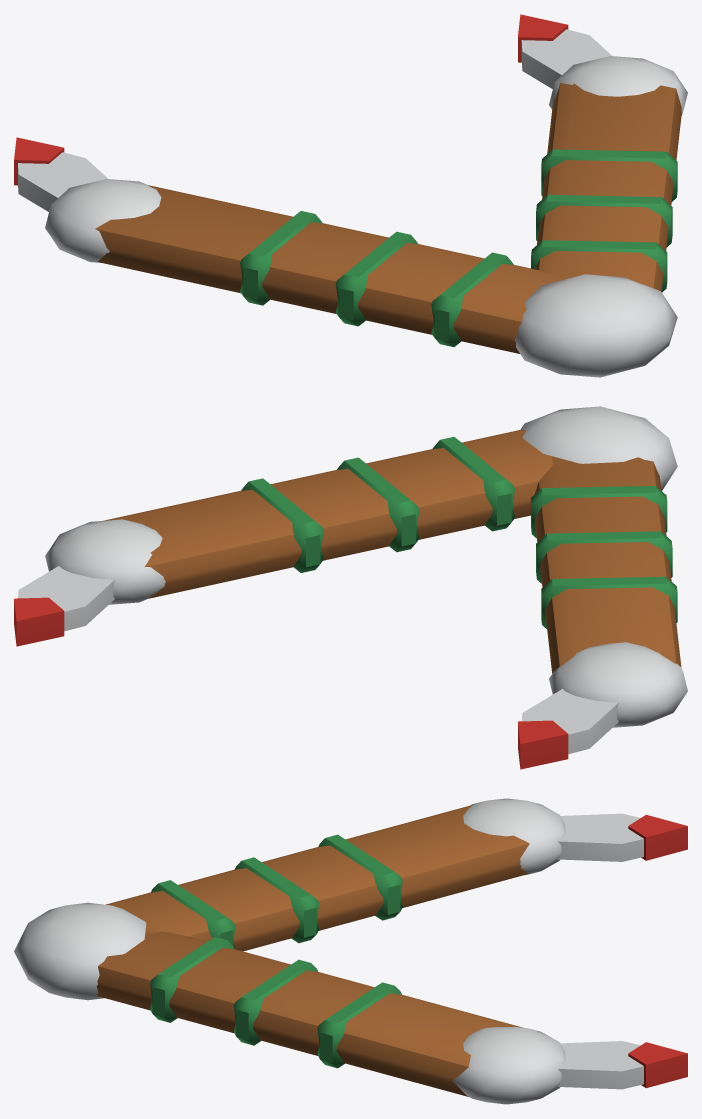
Rendered from w_y_boomerang.glb.
3 renders of one model, top to bottom at view 1: azimuth 30°, elevation 25°; view 2: azimuth 150°, elevation 25°; view 3: azimuth 270°, elevation 25°, orthographic. The views are drawn at different scales.
Visible parts, largest first — view 1: body; view 2: body; view 3: body.
Part boxes in pixels (x1,y1,x2,y2): body: (14, 14, 687, 377); body: (14, 406, 687, 769); body: (14, 798, 687, 1104).
Bounding box in the file's own units: 0.3328 × 0.0409 × 0.3382.
